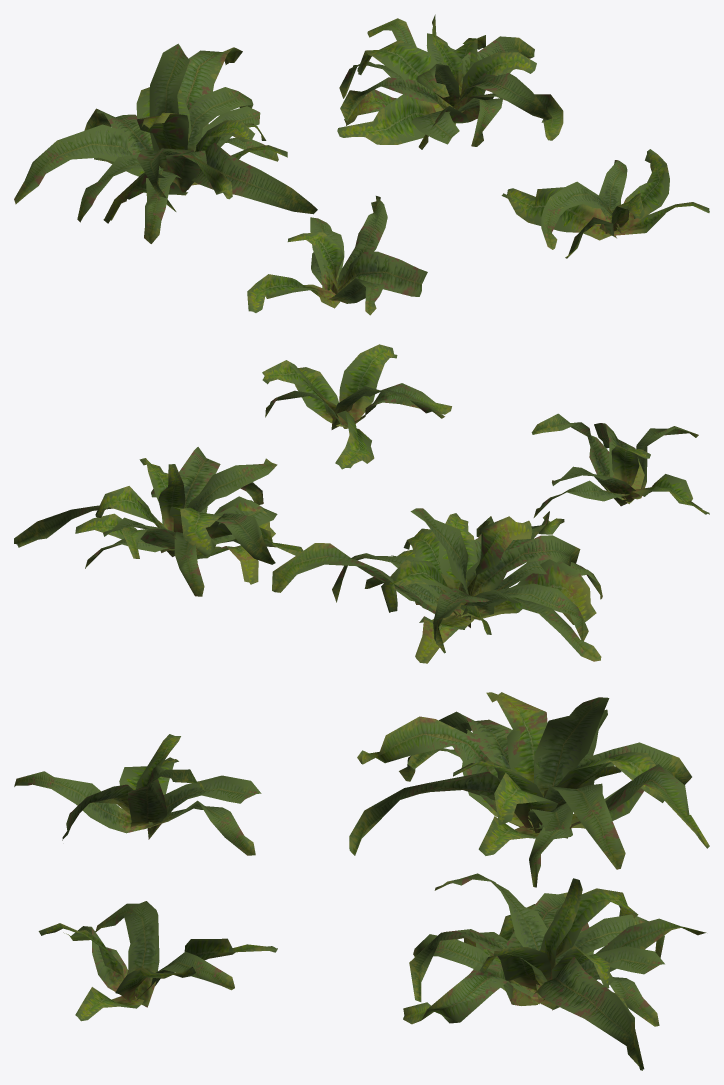
Rendered from fern_02_game.glb.
The picture shows the model from 3 angles, top to bottom: view 1: azimuth 30°, elevation 25°; view 2: azimuth 150°, elevation 25°; view 3: azimuth 270°, elevation 25°; orthographic projection. The views are drawn at different scales.
Visible parts, largest first — view 1: fern_02_b, fern_02_c, fern_02_a, fern_02_d; view 2: fern_02_b, fern_02_c, fern_02_d, fern_02_a; view 3: fern_02_b, fern_02_c, fern_02_a, fern_02_d.
Part boxes in pixels (x1,y1,x2,y2): fern_02_b: [14, 43, 317, 243]; fern_02_c: [337, 14, 563, 149]; fern_02_a: [247, 196, 427, 315]; fern_02_d: [501, 149, 709, 258]; fern_02_b: [272, 508, 602, 663]; fern_02_c: [14, 447, 303, 596]; fern_02_d: [262, 344, 451, 469]; fern_02_a: [531, 413, 709, 517]; fern_02_b: [349, 692, 709, 887]; fern_02_c: [403, 873, 706, 1070]; fern_02_a: [14, 734, 261, 855]; fern_02_d: [38, 901, 277, 1021].
Bounding box in the file's own units: 1.97 × 0.4277 × 1.72.
Materials: 1 (1 with a texture image).
